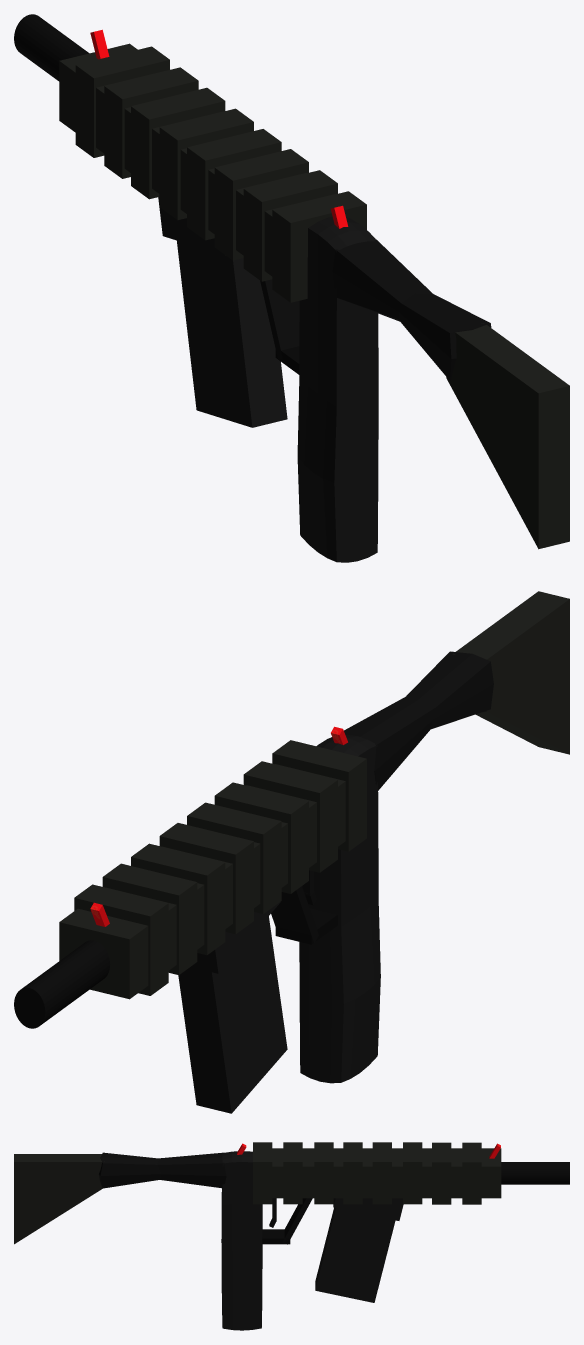
The model's file is Rifle1.1.fbx.
3 renders of one model, top to bottom at view 1: azimuth 30°, elevation 25°; view 2: azimuth 150°, elevation 25°; view 3: azimuth 270°, elevation 25°, orthographic. The views are drawn at different scales.
Parts seen in each view (by area): view 1: Cube.004, Cube.003, Cube.005, Cube.011, Cube.012, Cube.020, Cube.018, Cube.019, Cube.014, Cube.015, Cube.013, Cube.017 (+4 smaller); view 2: Cube.004, Cube.005, Cube.003, Cube.012, Cube.011, Cube.010, Cube.016, Cube.020, Cube.017, Cube.019, Cube.013, Cube.014 (+5 smaller); view 3: Cube.004, Cube.003, Cube.005, Cube.012, Cube.011, Cube.010, Cube.015, Cube.017, Cube.018, Cube.019, Cube.013, Cube.014 (+5 smaller).
Part boxes in pixels (x1,y1,x2,y2): Cube.004: (297,217,378,562); Cube.003: (446,323,569,549); Cube.005: (177,240,287,427); Cube.011: (332,239,491,380); Cube.012: (59,43,334,276); Cube.020: (272,191,366,302); Cube.018: (214,149,308,260); Cube.019: (243,170,337,281); Cube.014: (159,108,253,219); Cube.015: (75,46,169,157); Cube.013: (131,87,225,199); Cube.017: (187,129,281,240); Cube.004: (299,734,380,1083); Cube.005: (178,916,287,1113); Cube.003: (453,591,569,754); Cube.012: (59,764,345,999); Cube.011: (344,651,493,790); Cube.010: (14,940,110,1028); Cube.016: (102,863,197,974); Cube.020: (272,740,366,851); Cube.017: (187,802,281,913); Cube.019: (243,761,337,872); Cube.013: (131,843,225,955); Cube.014: (159,823,253,934); Cube.004: (221,1151,262,1330); Cube.003: (14,1154,104,1244); Cube.005: (315,1207,395,1302); Cube.012: (272,1148,501,1198); Cube.011: (98,1152,226,1188); Cube.010: (501,1162,569,1184); Cube.015: (462,1142,481,1204); Cube.017: (343,1142,362,1204); Cube.018: (314,1142,333,1204); Cube.019: (283,1142,302,1204); Cube.013: (403,1142,422,1204); Cube.014: (372,1142,391,1204).
Bounding box in the file's own units: 64.05 × 276 × 757.
